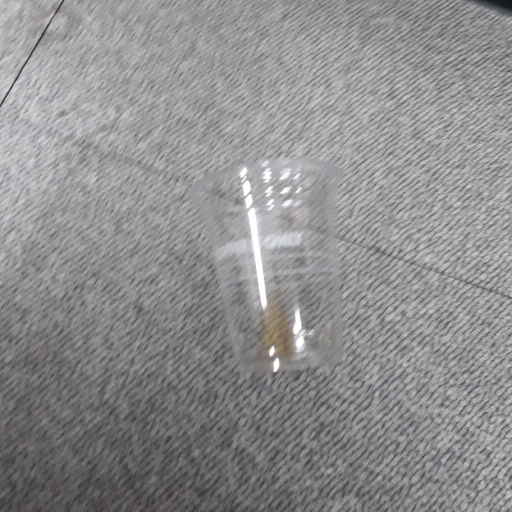Plastic_2: (191, 153, 357, 373)
